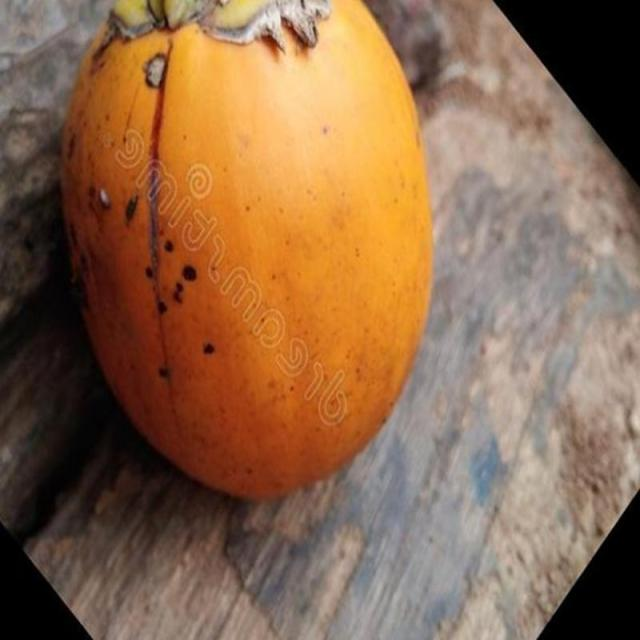good: (60, 0, 435, 506)
